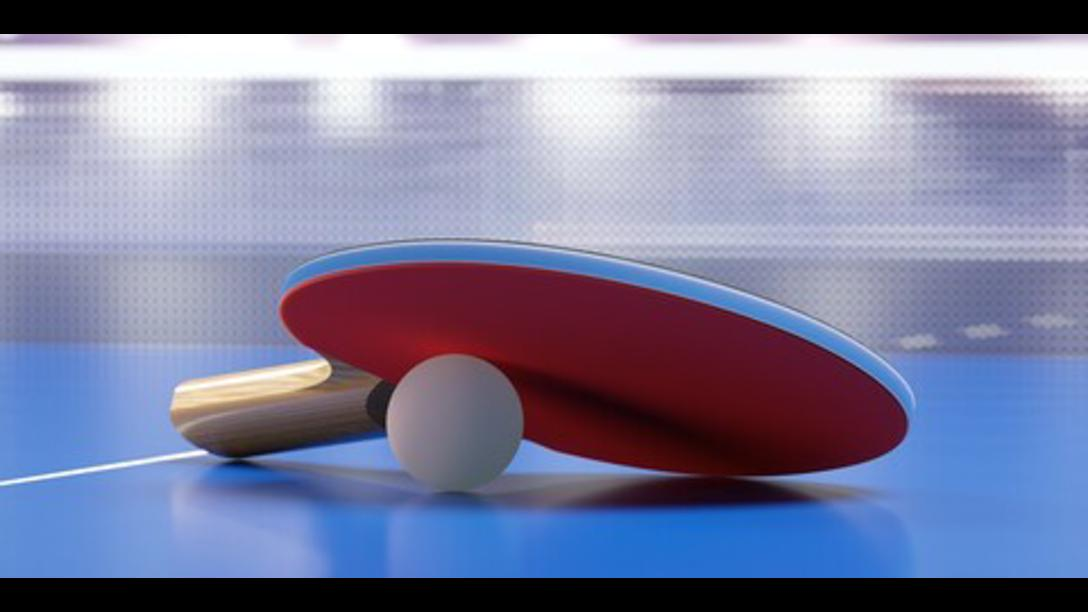Table-Tennis-Ball: (390, 353, 520, 491)
